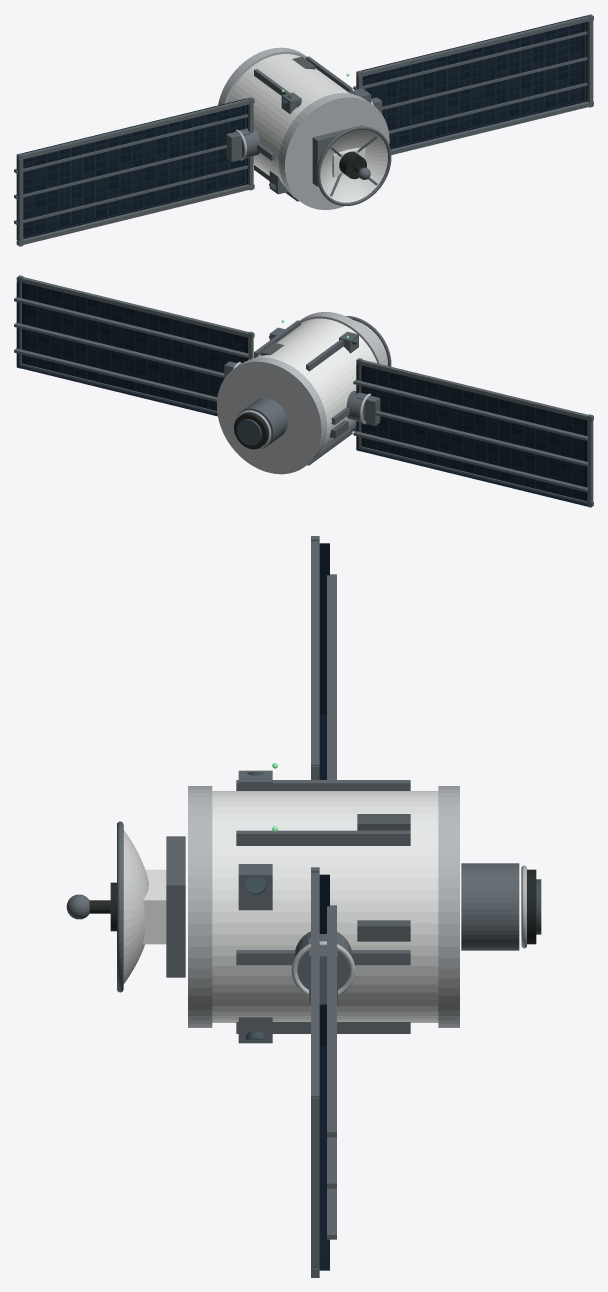
Rendered from satellite.glb.
3 renders of one model, top to bottom at view 1: azimuth 30°, elevation 25°; view 2: azimuth 150°, elevation 25°; view 3: azimuth 270°, elevation 25°, orthographic. The views are drawn at different scales.
Visible parts, largest first — view 1: solar_panel_-1, solar_panel_+1, top_titanium_ring, central_body, antenna_dish, panel_-1_rail_y_+0.39, panel_-1_rail_y_-0.39, panel_+1_rail_y_+0.39, panel_+1_rail_y_-0.39, antenna_rim, bottom_titanium_ring, panel_-1_back_spar_-0.23 (+15 smaller); view 2: solar_panel_-1, solar_panel_+1, bottom_titanium_ring, central_body, panel_-1_rail_y_+0.39, panel_+1_rail_y_+0.39, panel_-1_back_spar_+0.23, panel_-1_back_spar_-0.23, panel_+1_back_spar_+0.23, panel_-1_back_spar_+0.00, panel_+1_back_spar_+0.00, panel_+1_back_spar_-0.23 (+11 smaller); view 3: central_body, top_titanium_ring, bottom_titanium_ring, payload_barrel, top_equipment_deck, solar_panel_+1, body_rail_60, antenna_dish, panel_+1_back_spar_+0.23, panel_+1_rail_y_+0.39, panel_-1_rail_y_+0.39, panel_-1_back_spar_+0.23 (+10 smaller).
Part boxes in pixels (x1=…): solar_panel_-1: x1=16, y1=98, x2=247, y2=240; solar_panel_+1: x1=356, y1=15, x2=587, y2=149; top_titanium_ring: x1=279, y1=93, x2=389, y2=209; central_body: x1=227, y1=54, x2=353, y2=185; antenna_dish: x1=320, y1=129, x2=387, y2=202; panel_-1_rail_y_+0.39: x1=16, y1=99, x2=254, y2=160; panel_-1_rail_y_-0.39: x1=16, y1=184, x2=254, y2=245; panel_+1_rail_y_+0.39: x1=356, y1=16, x2=593, y2=77; panel_+1_rail_y_-0.39: x1=390, y1=101, x2=593, y2=154; antenna_rim: x1=317, y1=126, x2=391, y2=205; bottom_titanium_ring: x1=218, y1=47, x2=306, y2=105; panel_-1_back_spar_-0.23: x1=14, y1=165, x2=247, y2=224; solar_panel_-1: x1=356, y1=363, x2=588, y2=506; solar_panel_+1: x1=16, y1=280, x2=247, y2=416; bottom_titanium_ring: x1=217, y1=357, x2=326, y2=474; central_body: x1=251, y1=318, x2=376, y2=452; panel_-1_rail_y_+0.39: x1=356, y1=360, x2=593, y2=421; panel_+1_rail_y_+0.39: x1=16, y1=277, x2=254, y2=338; panel_-1_back_spar_+0.23: x1=353, y1=380, x2=588, y2=440; panel_-1_back_spar_-0.23: x1=353, y1=431, x2=588, y2=491; panel_+1_back_spar_+0.23: x1=14, y1=297, x2=248, y2=357; panel_-1_back_spar_+0.00: x1=375, y1=411, x2=588, y2=466; panel_+1_back_spar_+0.00: x1=14, y1=323, x2=224, y2=377; panel_+1_back_spar_-0.23: x1=14, y1=348, x2=217, y2=401; central_body: x1=212, y1=791, x2=438, y2=1022; top_titanium_ring: x1=188, y1=786, x2=212, y2=1027; bottom_titanium_ring: x1=438, y1=786, x2=459, y2=1027; payload_barrel: x1=461, y1=863, x2=519, y2=950; top_equipment_deck: x1=166, y1=836, x2=185, y2=977; solar_panel_+1: x1=319, y1=874, x2=329, y2=1270; body_rail_60: x1=236, y1=830, x2=410, y2=845; antenna_dish: x1=123, y1=830, x2=148, y2=983; panel_+1_back_spar_+0.23: x1=327, y1=905, x2=336, y2=1137; panel_+1_rail_y_+0.39: x1=311, y1=872, x2=319, y2=1105; panel_-1_rail_y_+0.39: x1=311, y1=541, x2=319, y2=774; panel_-1_back_spar_+0.23: x1=327, y1=574, x2=336, y2=779.
Bounding box in the file's own units: 5.49 × 1.01 × 1.96.
9 materials, 1 textured.
